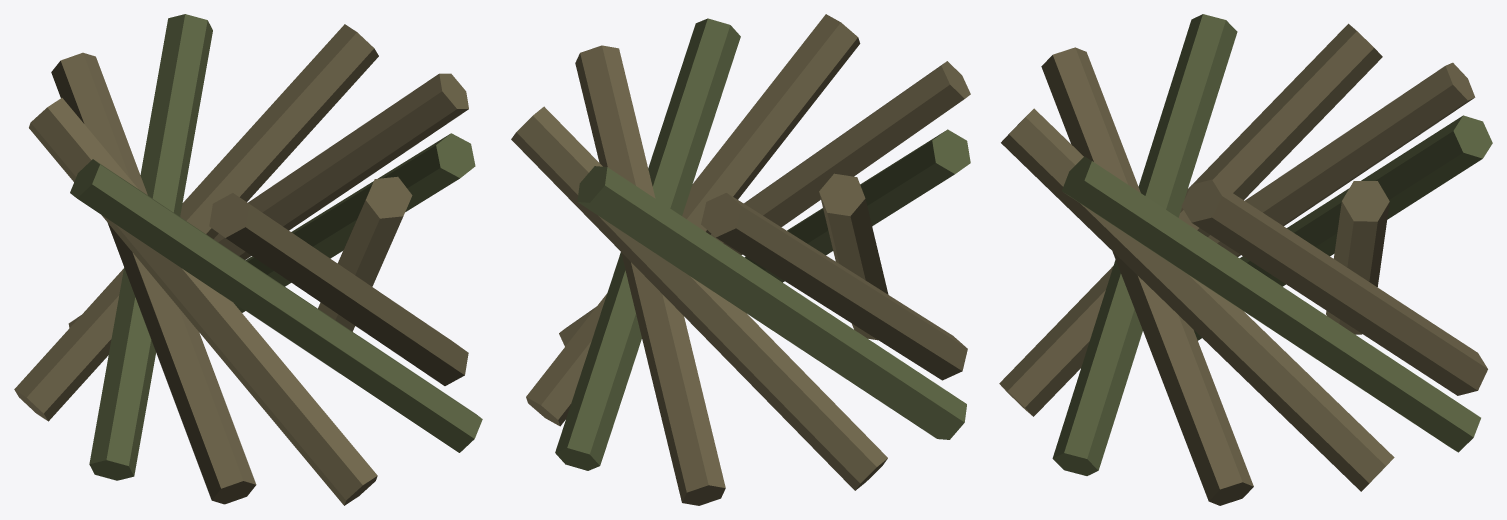
Rendered from env_scrub.glb.
3 renders of one model, left to right at view 1: azimuth 30°, elevation 25°; view 2: azimuth 150°, elevation 25°; view 3: azimuth 270°, elevation 25°, orthographic.
Parts seen in each view (by area): view 1: Cylinder.006, Cylinder.005, Cylinder.002, Cylinder.003, Cylinder.004, Cylinder.007, Cylinder.001, Cylinder, Cylinder.008; view 2: Cylinder.003, Cylinder.002, Cylinder, Cylinder.001, Cylinder.008, Cylinder.004, Cylinder.007, Cylinder.006, Cylinder.005; view 3: Cylinder, Cylinder.008, Cylinder.006, Cylinder.007, Cylinder.001, Cylinder.005, Cylinder.004, Cylinder.003, Cylinder.002.
Boxes of the visible parts, x1,y1,x2,y2 form: Cylinder.006: (70,159,482,452); Cylinder.005: (29,98,377,505); Cylinder.002: (14,24,378,421); Cylinder.003: (89,14,212,480); Cylinder.004: (51,52,256,504); Cylinder.007: (209,193,468,385); Cylinder.001: (68,73,468,327); Cylinder: (234,133,475,312); Cylinder.008: (318,176,412,331); Cylinder.003: (577,166,966,439); Cylinder.002: (511,106,887,490); Cylinder: (555,18,740,470); Cylinder.001: (575,45,725,505); Cylinder.008: (526,14,860,426); Cylinder.004: (701,193,967,380); Cylinder.007: (559,61,970,346); Cylinder.006: (744,129,970,282); Cylinder.005: (819,173,888,340); Cylinder: (1062,156,1480,452); Cylinder.008: (1001,108,1394,491); Cylinder.006: (1052,14,1237,475); Cylinder.007: (1041,47,1253,505); Cylinder.001: (1181,179,1487,395); Cylinder.005: (999,23,1382,416); Cylinder.004: (1208,62,1475,256); Cylinder.003: (1194,115,1492,340); Cylinder.002: (1326,181,1389,334).
Size of the model in its own units: 0.4281 by 0.3286 by 0.4525.
